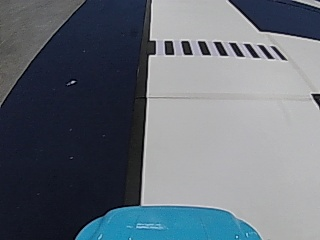CrossWalk: (147, 38, 284, 60)
